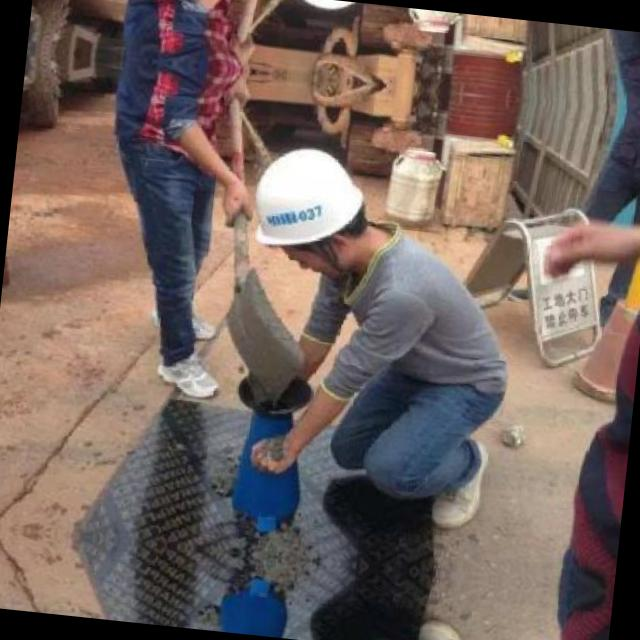helmet: (244, 133, 382, 290)
